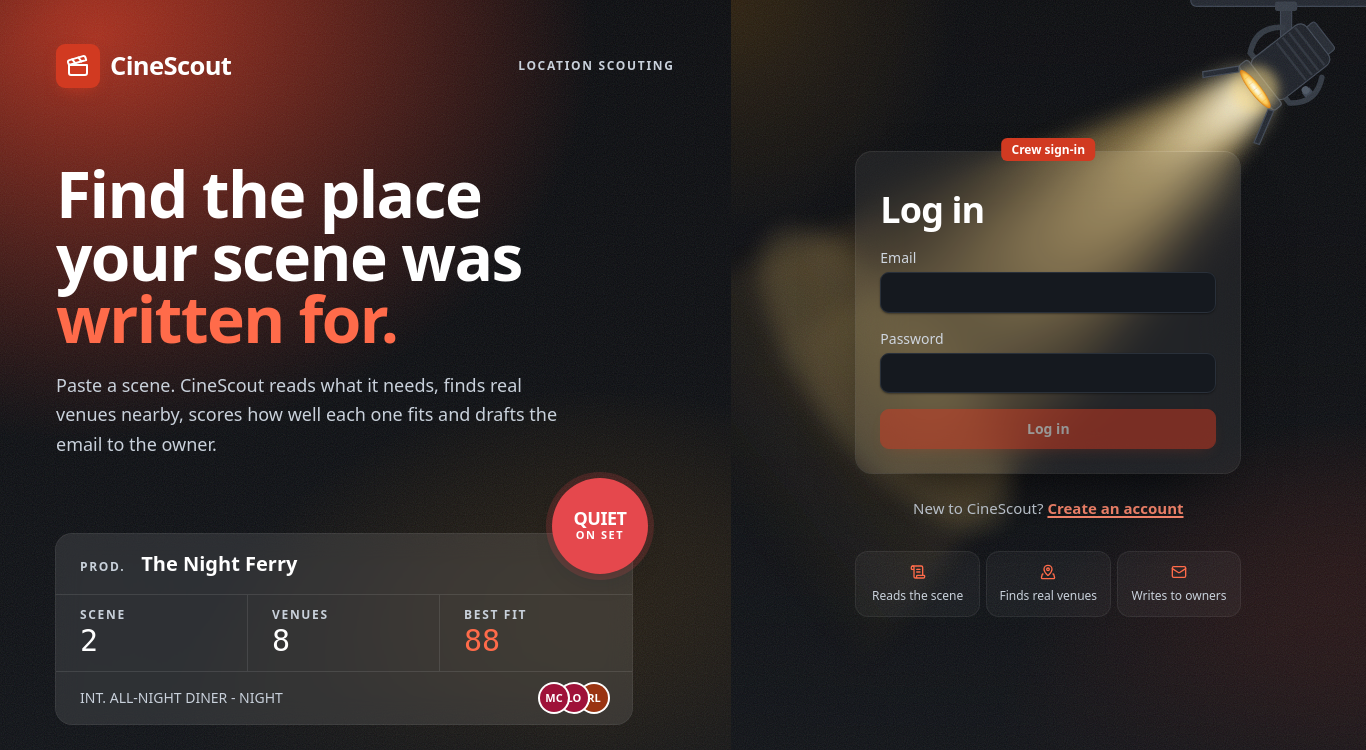
Scenario: the permit guide › appears once an editor marks the venue as a public space, with its office, lead time and checklist
In the field labelled "Email": [1048, 293] box [880,272,1216,313], type "ada@example.com"
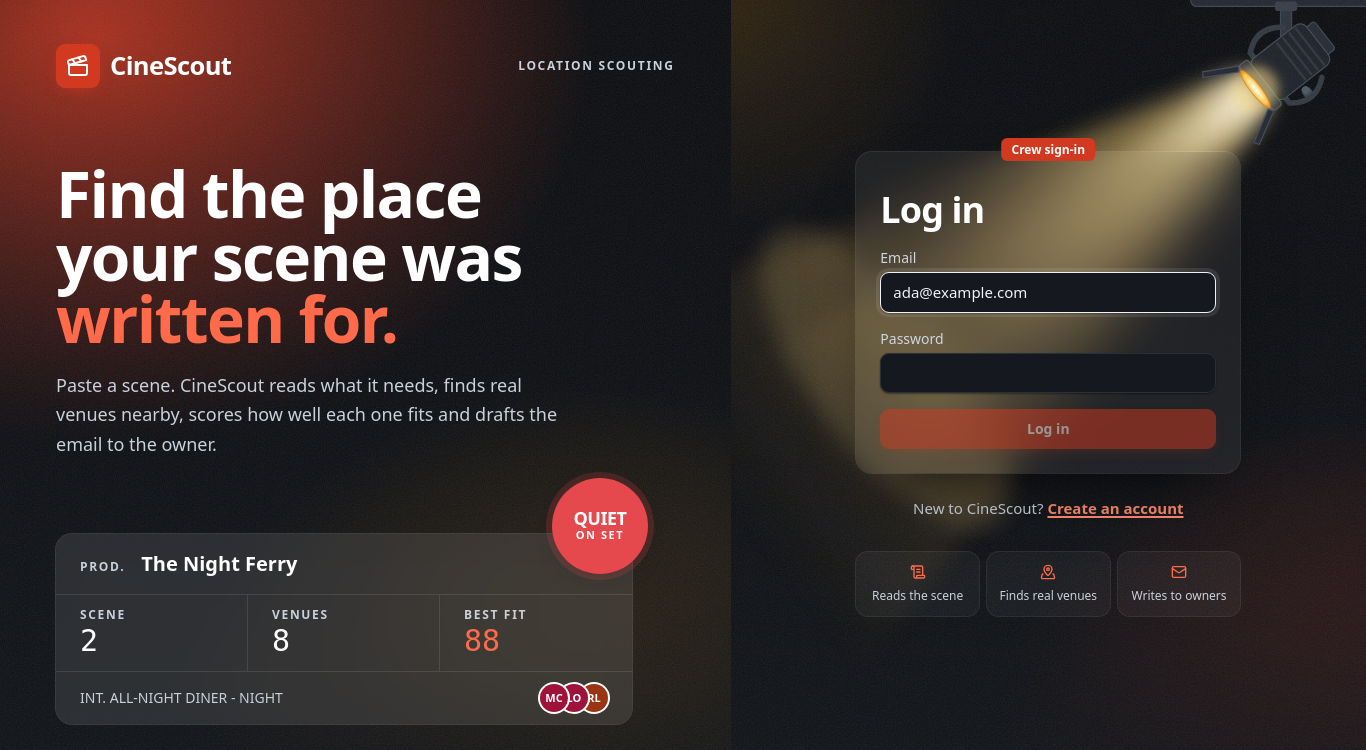
In the password field labelled "Password": [1048, 373] box [880,353,1216,393], type "a-long-password"
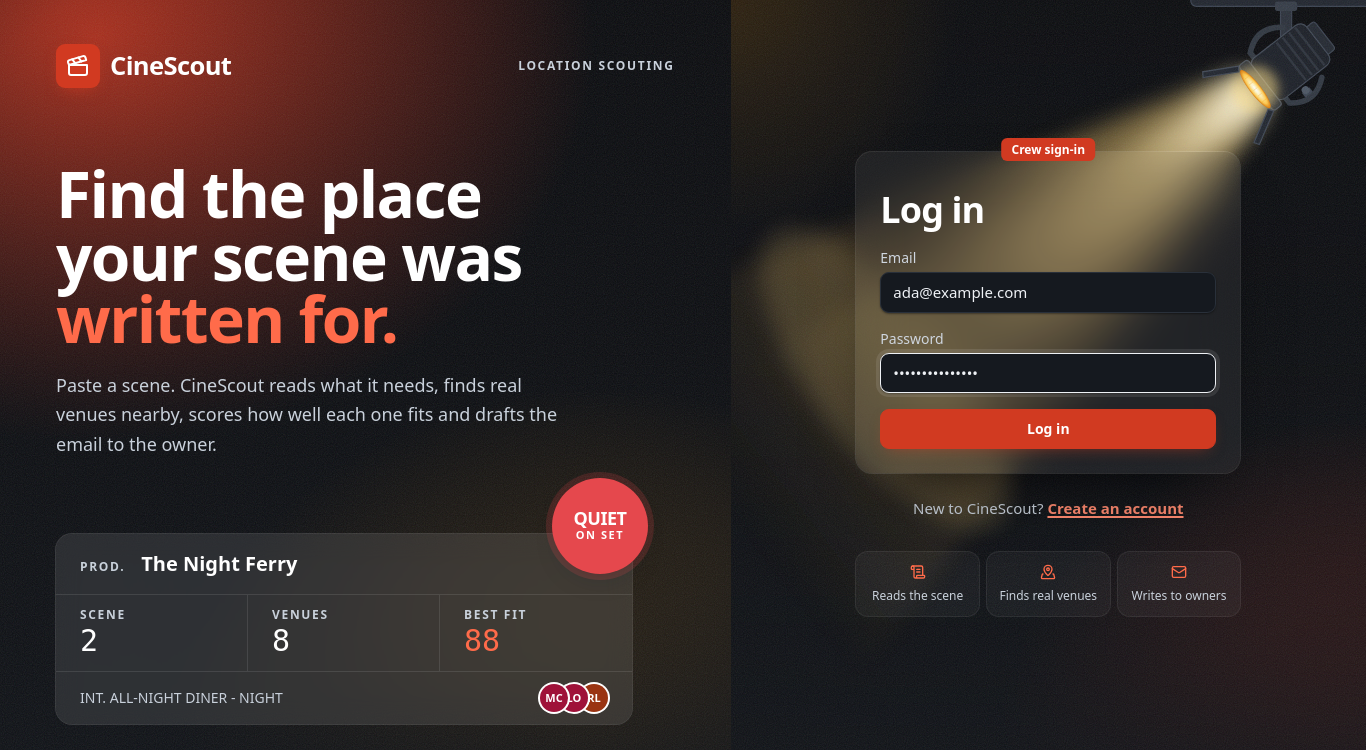
Click the button "Log in": [1048, 429] box [880,409,1216,449]
(page scrolled)
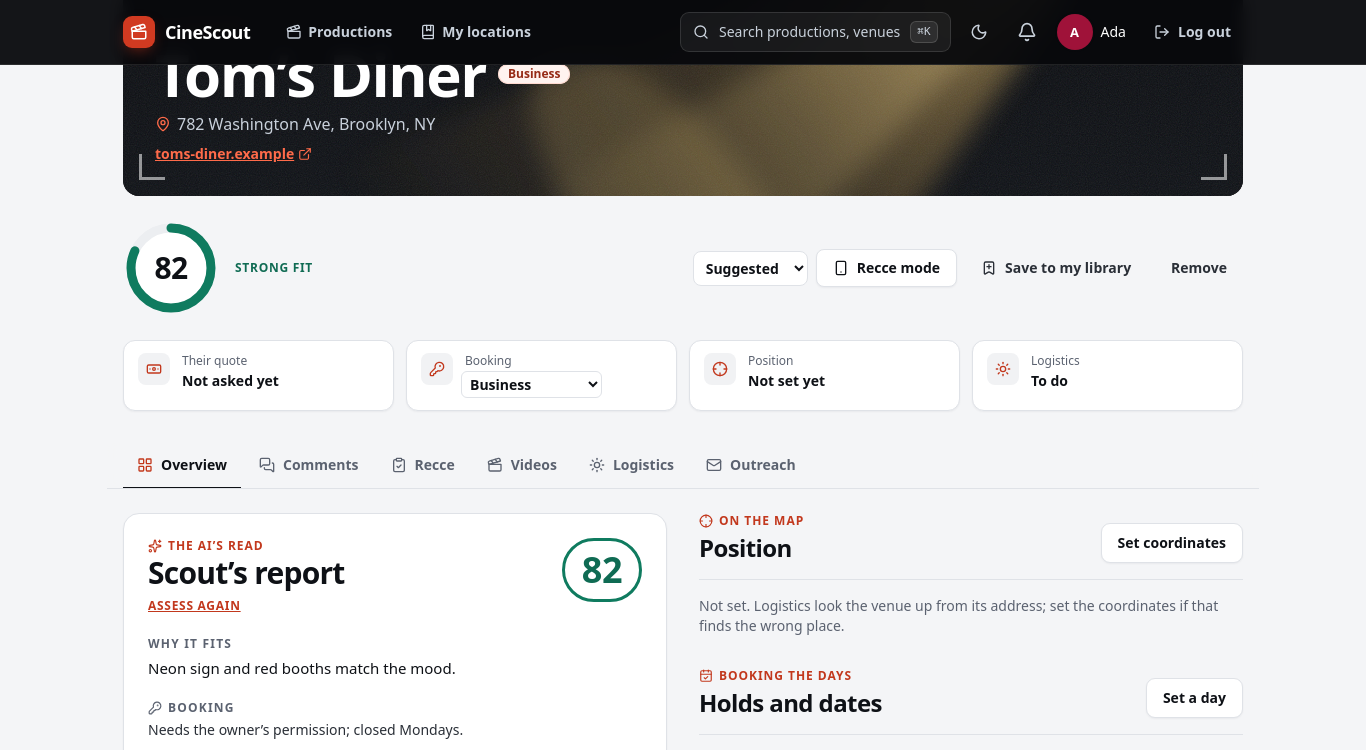
Expected: the element "Filming permit" is not shown
Expected: the dropdown named "Who says yes to filming at" next to "Not set yet" shows "Business"
Select "Public space" in the dropdown named "Who says yes to filming at" next to "Not set yet": [532, 384] box [461,371,602,398]
(page scrolled)
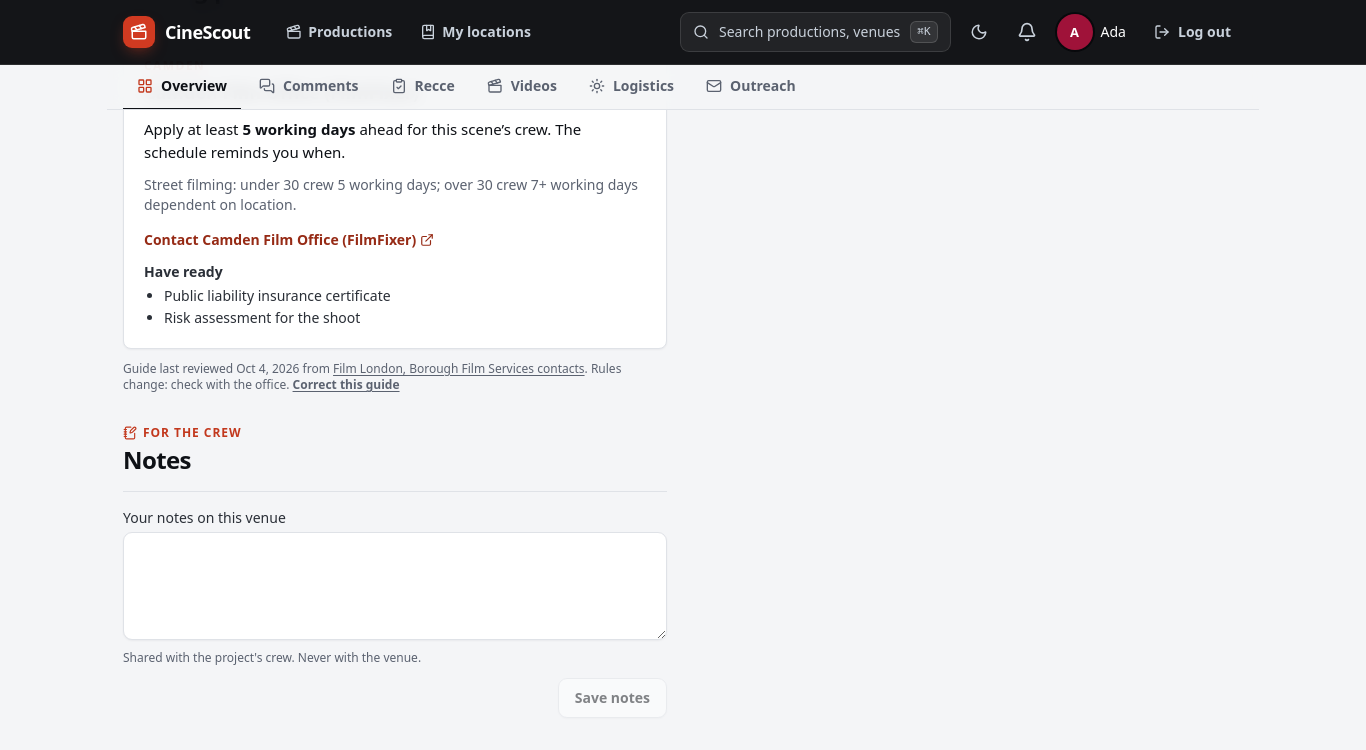
Expected: the heading "Camden Film Office (FilmFixer)" is shown, [144,80,419,104]
Expected: the text "Apply at least" shows "Apply at least 5 working days ahead", [144,118,646,163]
Expected: the list item "Public liability insurance certificate" is shown, [164,286,391,305]
